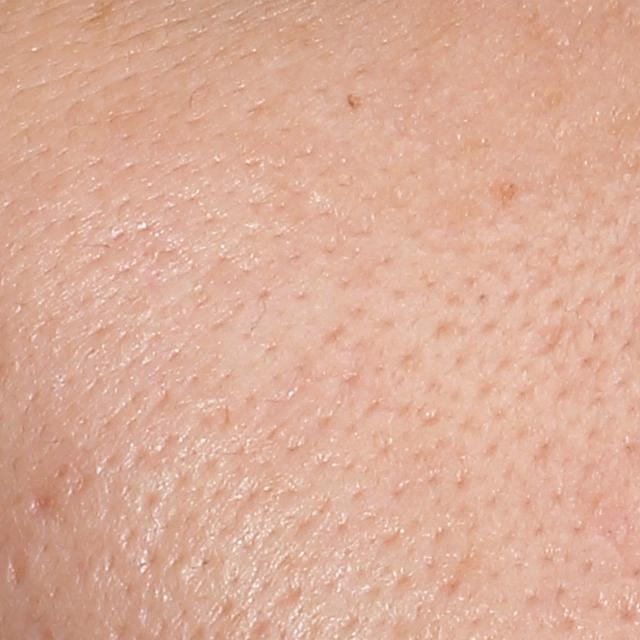atrophic_scar: (517, 316, 570, 356), (5, 547, 33, 591), (28, 487, 61, 516)
